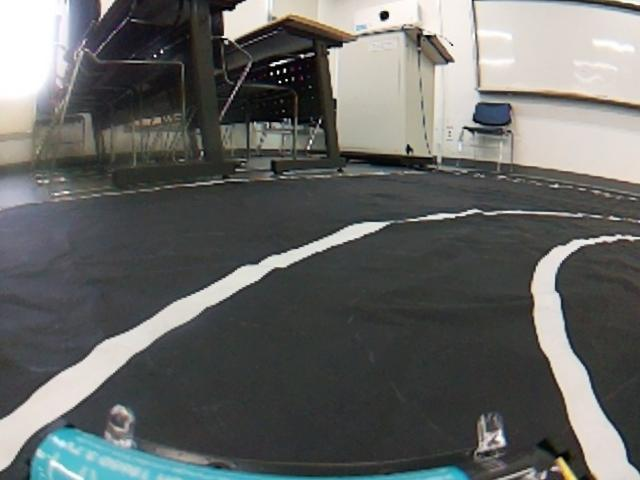right: (5, 187, 640, 480)
